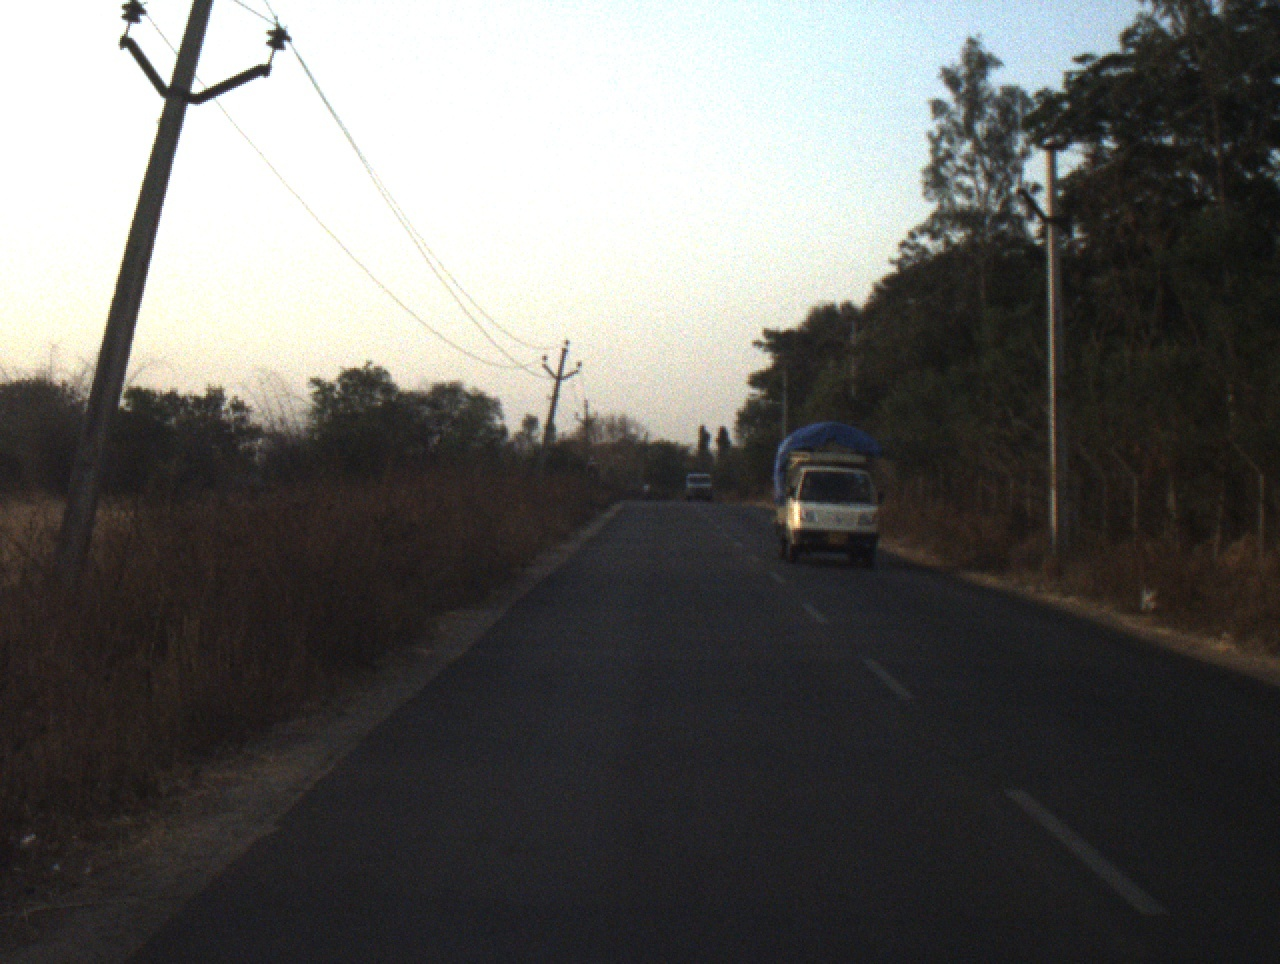car: (678, 469, 713, 503)
motorcycle: (643, 490, 650, 503)
rider: (642, 482, 650, 496)
truck: (761, 420, 886, 568)
